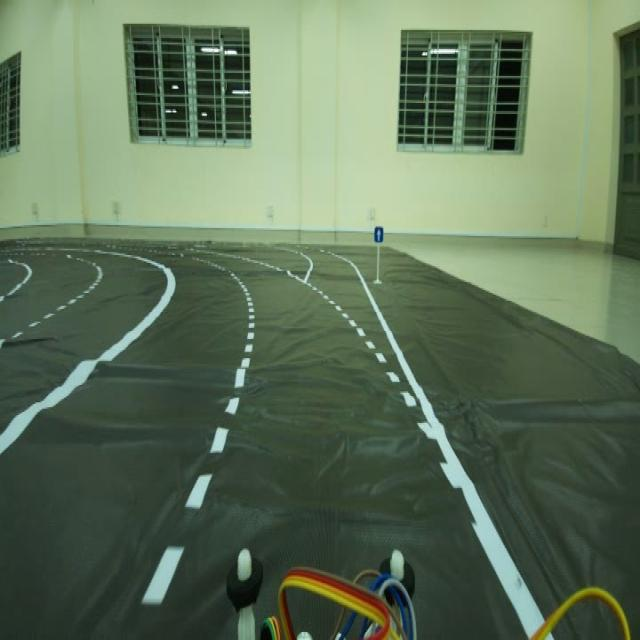onewayroad: (373, 217, 387, 252)
